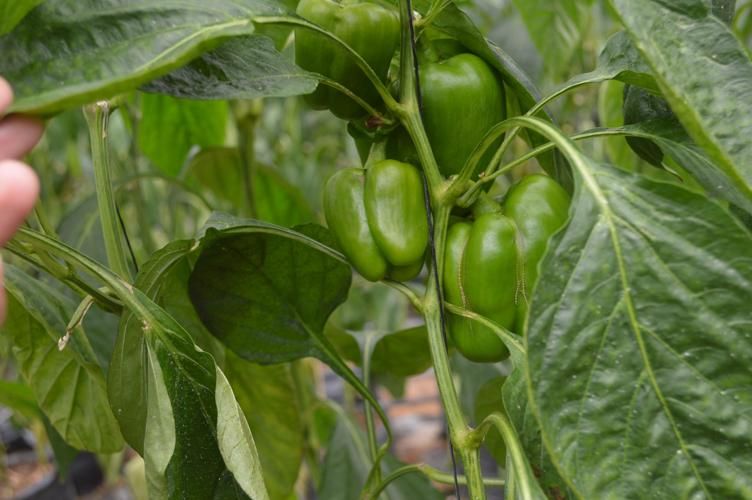BellPepper: (432, 172, 569, 360), (396, 51, 507, 180), (292, 8, 395, 115), (326, 161, 419, 279)
